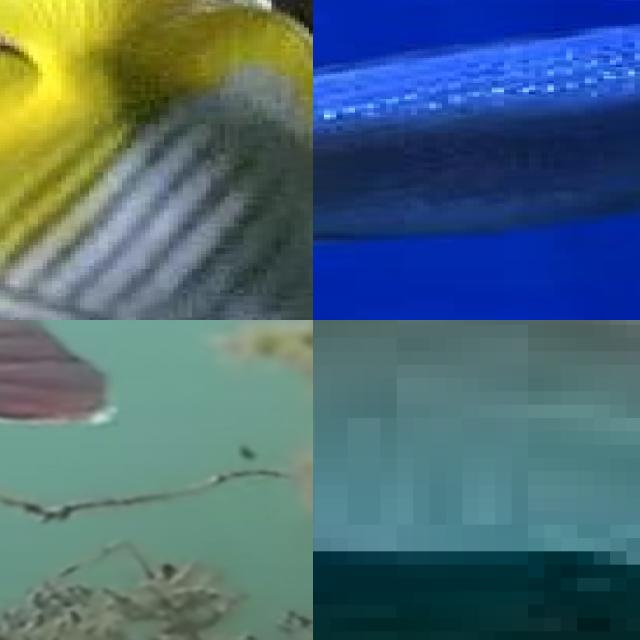fish: (0, 0, 313, 320), (313, 458, 640, 640)
